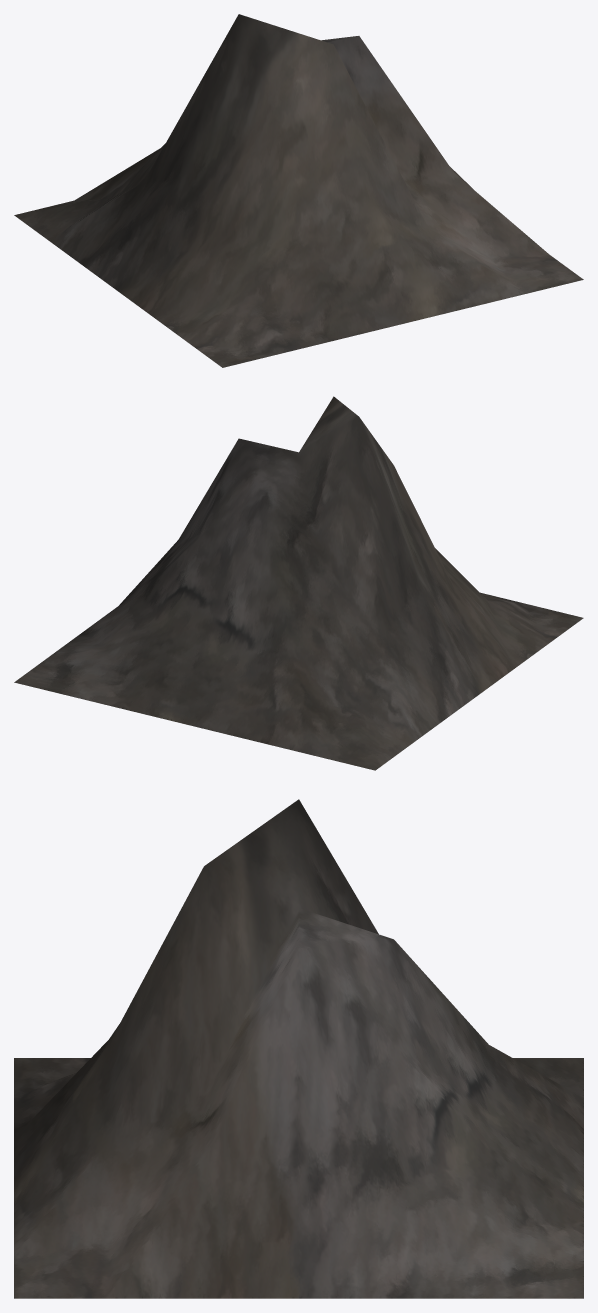
The model's file is rock3.fbx.
The picture shows the model from 3 angles, top to bottom: view 1: azimuth 30°, elevation 25°; view 2: azimuth 150°, elevation 25°; view 3: azimuth 270°, elevation 25°; orthographic projection. The views are drawn at different scales.
Parts seen in each view (by area): view 1: Rock3; view 2: Rock3; view 3: Rock3.
Part boxes in pixels (x1=…): Rock3: x1=14, y1=14, x2=583, y2=367; Rock3: x1=14, y1=396, x2=583, y2=770; Rock3: x1=14, y1=799, x2=583, y2=1298.
Size of the model in its own units: 10 by 6.56 by 10.
1 material, 1 textured.
